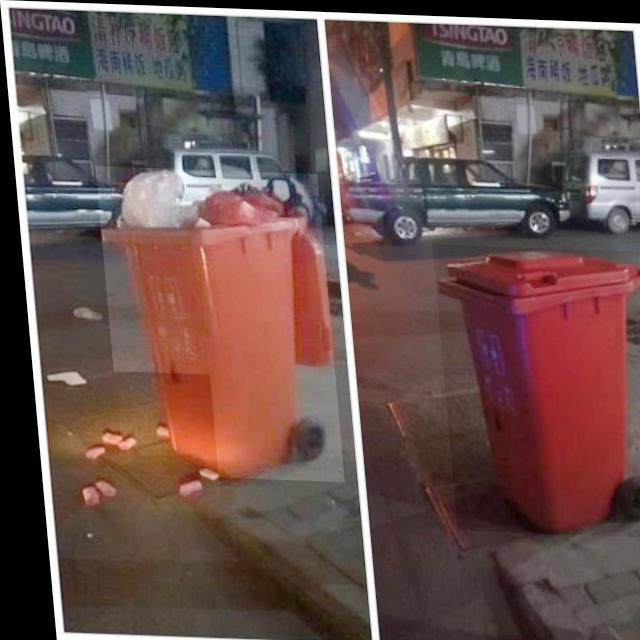garbage: (36, 369, 212, 511)
garbage_bin: (428, 241, 640, 533)
overflow: (92, 165, 336, 480)
